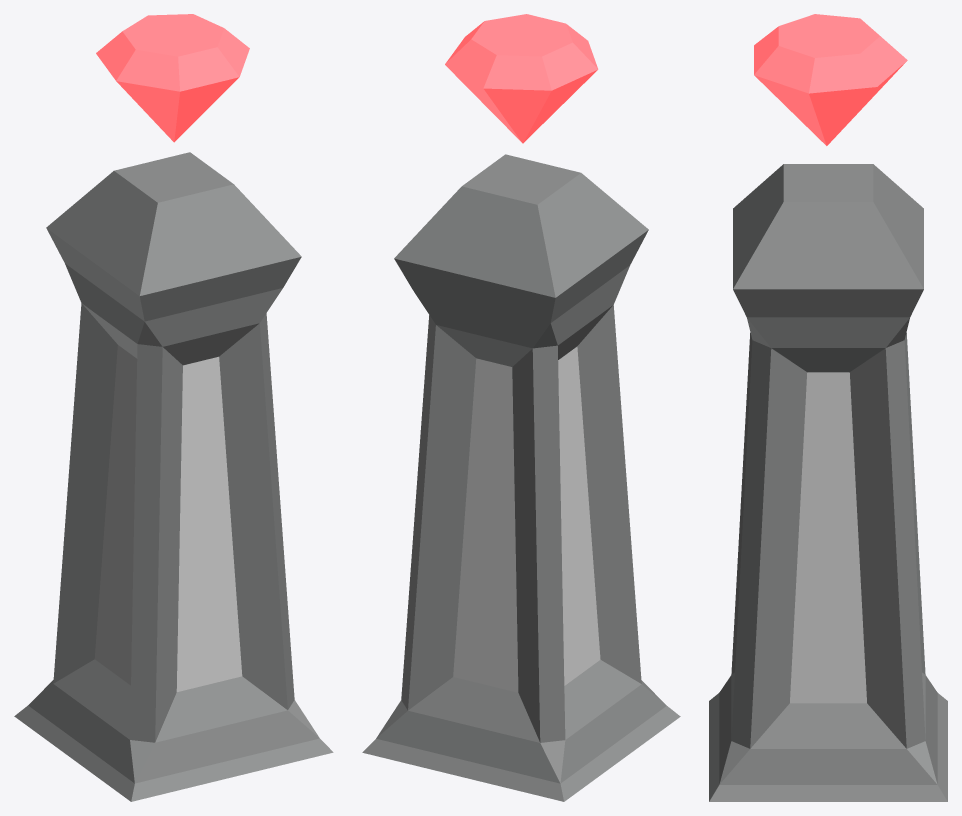
Rendered from REDGLOW.fbx.
3 views of the same model, side by side, from view 1: azimuth 30°, elevation 25°; view 2: azimuth 150°, elevation 25°; view 3: azimuth 270°, elevation 25° (orthographic). The views are drawn at different scales.
Visible parts, largest first — view 1: Plane.012, Plane.013, Cone.005; view 2: Plane.012, Plane.013, Cone.005; view 3: Plane.012, Plane.013, Cone.005.
Boxes of the visible parts, box(x1,y1,x2,y2) form: Plane.012: box(14, 152, 333, 801); Plane.013: box(94, 345, 242, 691); Cone.005: box(96, 14, 249, 142); Plane.012: box(362, 154, 680, 801); Plane.013: box(453, 346, 600, 692); Cone.005: box(445, 14, 598, 143); Plane.012: box(709, 164, 947, 801); Plane.013: box(790, 372, 866, 703); Cone.005: box(754, 14, 907, 145).
Bounding box in the file's own units: 157 × 520 × 157.
